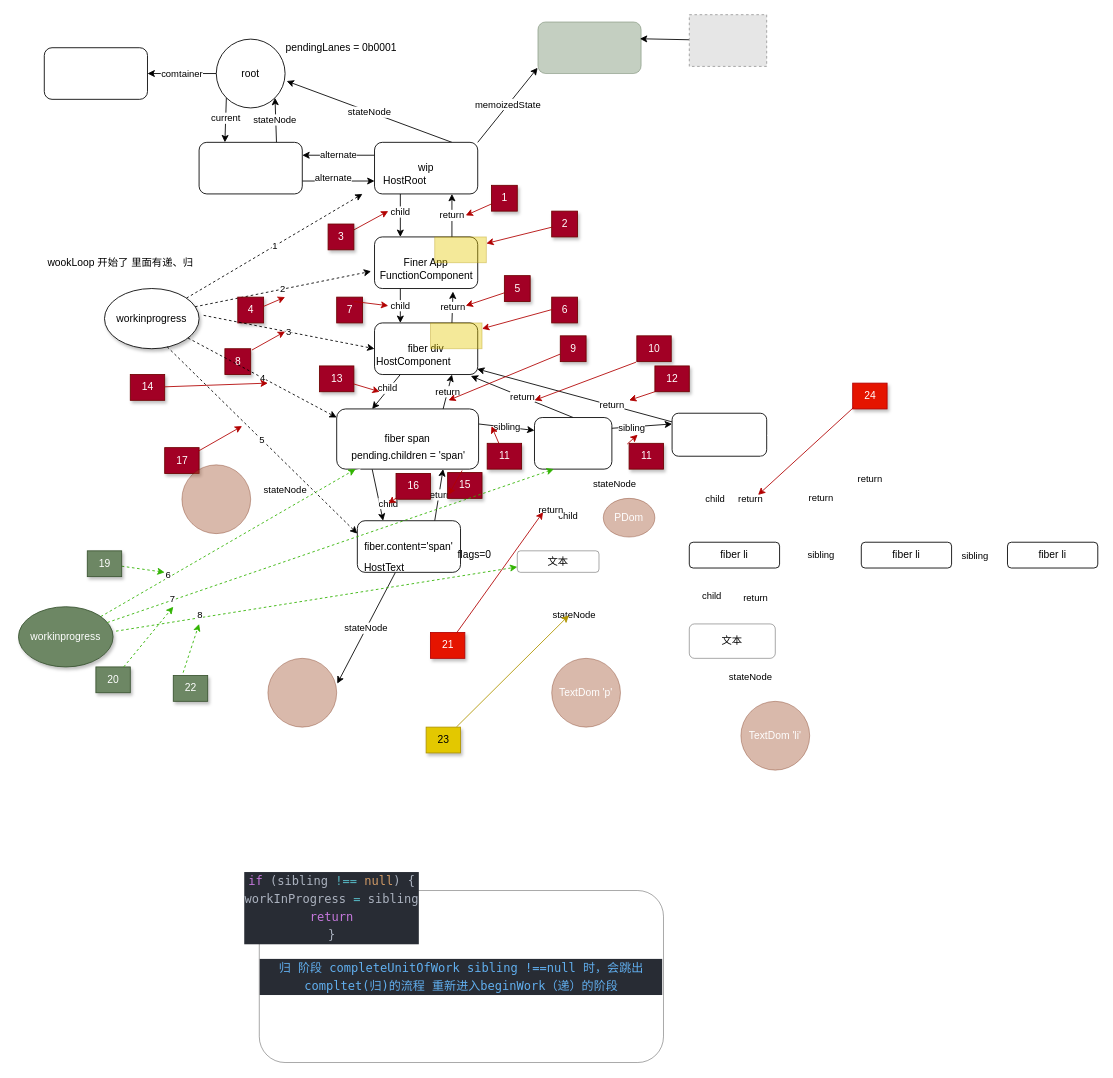
Image size: 1113x1078. Some labels were removed from this diagram. Grey dashed boxes stand in for pictures. The centre of each missing label's shape, as x and y in pixels:
dom（#root）: the point at 95,73
Fiber p: the point at 573,443
Fiber ul: the point at 719,434
flag = 0: the point at 456,335
flag = 1: the point at 460,249
hostRootFiber: the point at 250,167
ReactElementtype: the point at 589,47
SpanDom child:TextDom: the point at 216,499
TextDom 'span': the point at 302,692
